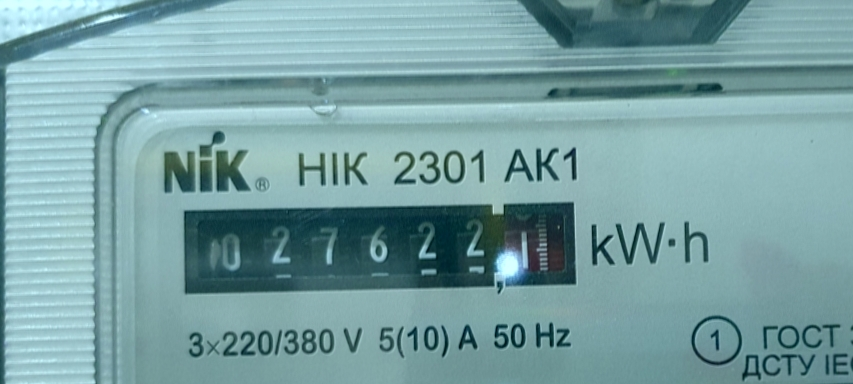0: (218, 231, 243, 274)
1: (515, 229, 532, 272)
2: (413, 220, 438, 262), (268, 225, 292, 268), (463, 217, 486, 259)
6: (366, 224, 388, 265)
7: (316, 226, 340, 269)
screen: (170, 193, 589, 302)
